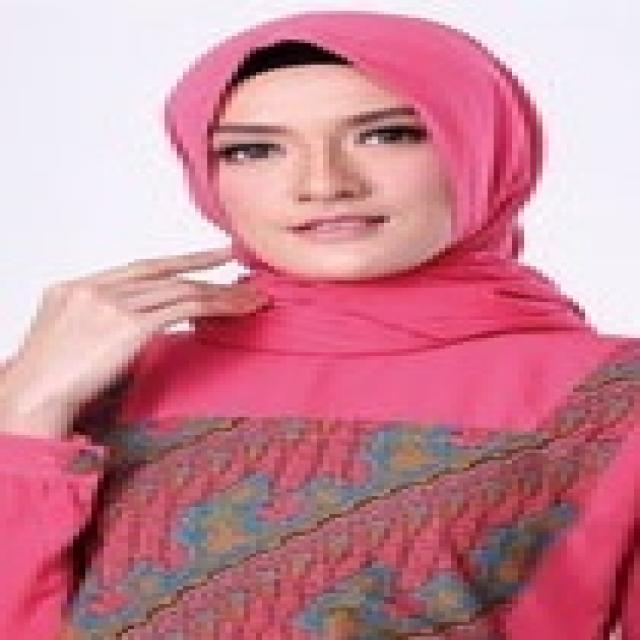head: (149, 5, 545, 290)
